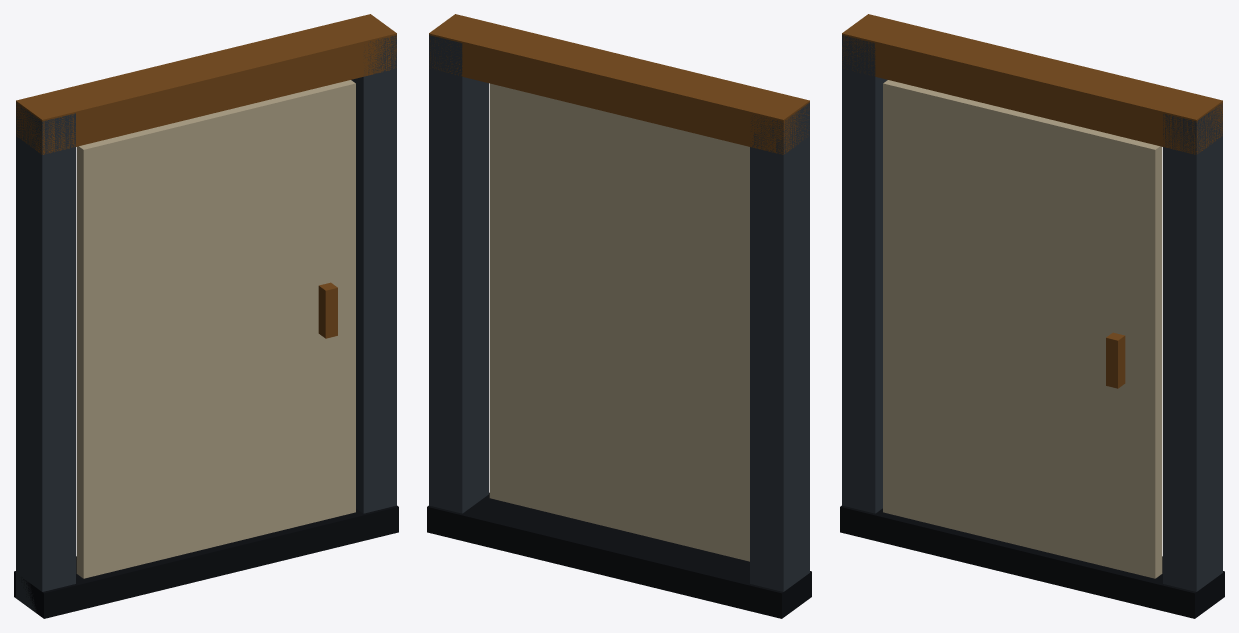
File: nf_door_frame.obj
3 renders of one model, left to right at view 1: azimuth 30°, elevation 25°; view 2: azimuth 150°, elevation 25°; view 3: azimuth 330°, elevation 25°, orthographic.
Visible parts, largest first — view 1: door_leaf, left_jamb, head, right_jamb, threshold, handle; view 2: door_leaf, left_jamb, right_jamb, head, threshold; view 3: door_leaf, right_jamb, head, left_jamb, threshold, handle.
Part boxes in pixels (x1,y1,x2,y2): door_leaf: (76,80,355,578); left_jamb: (16,102,75,613); head: (16,14,396,154); right_jamb: (351,35,396,513); threshold: (14,505,398,618); handle: (318,282,337,338); door_leaf: (489,83,749,561); left_jamb: (750,102,809,591); right_jamb: (429,35,488,513); head: (429,14,809,154); threshold: (427,492,811,618); door_leaf: (883,80,1162,578); right_jamb: (1163,103,1222,591); head: (842,14,1222,154); left_jamb: (842,35,887,513); threshold: (840,505,1224,618); handle: (1106,332,1125,388).
Bounding box in the file's own units: 2.32 × 3.11 × 0.43.
